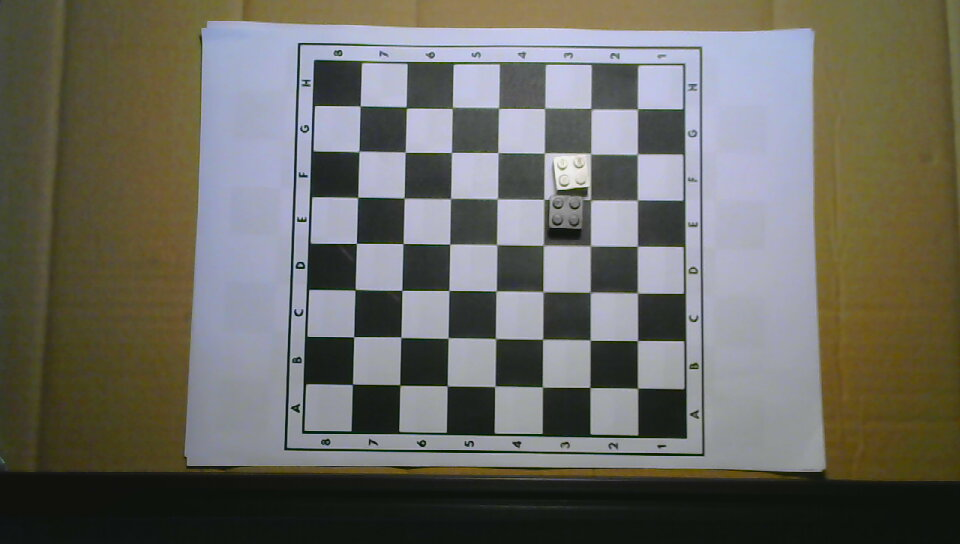bp: (547, 194, 584, 233)
wp: (551, 153, 592, 193)
